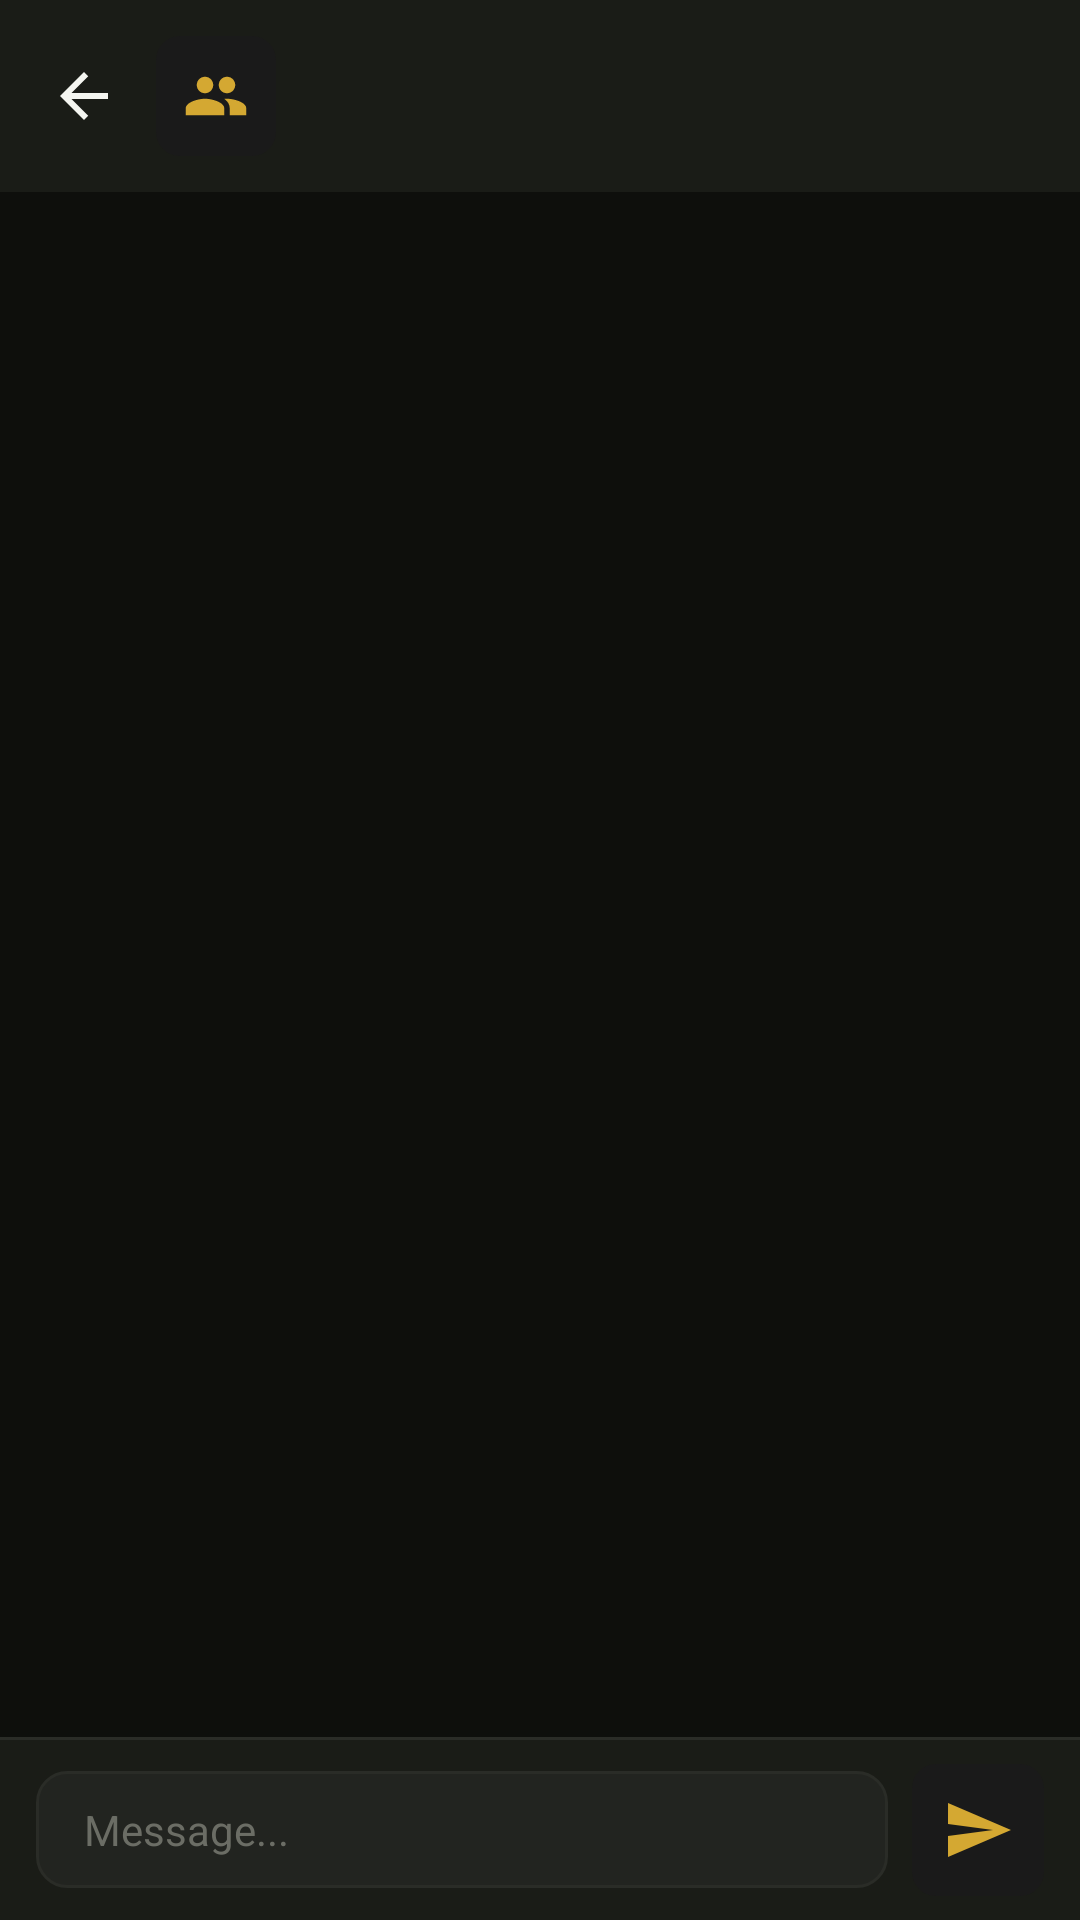

Where to tap for icons on this 1080px×1920px app screen, as (x=x, y=y):
Back: (x=84, y=96)
Community icon: (x=216, y=96)
Send: (x=979, y=1830)
